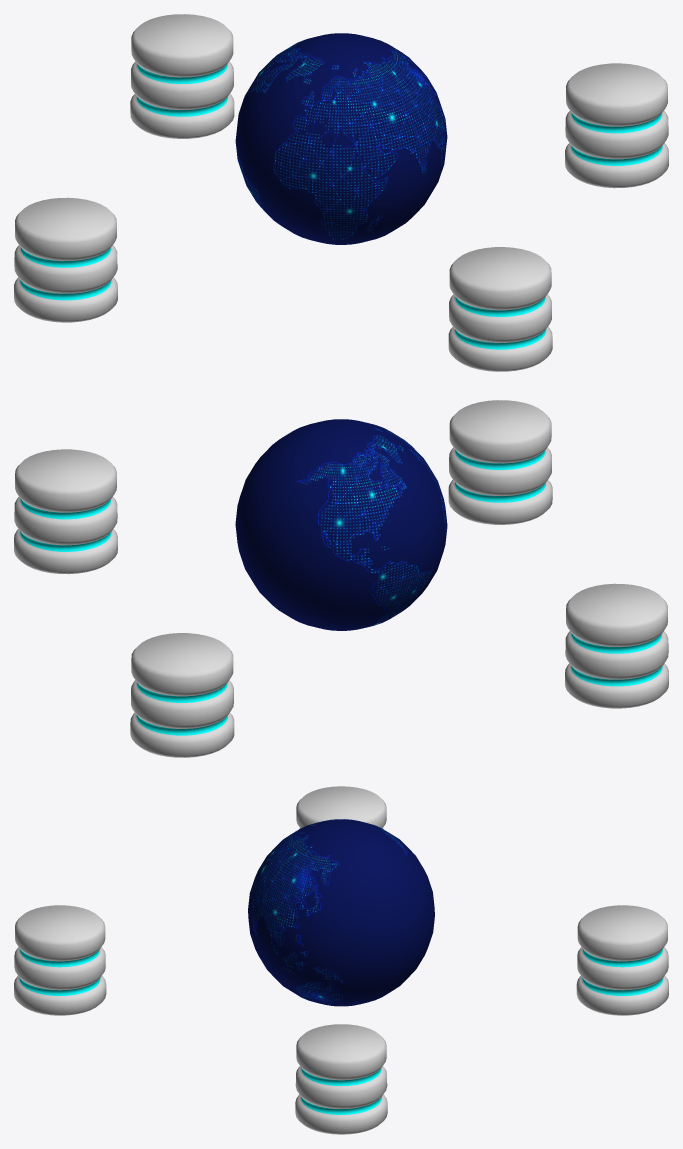
Rendered from escena1.gltf.
3 renders of one model, top to bottom at view 1: azimuth 30°, elevation 25°; view 2: azimuth 150°, elevation 25°; view 3: azimuth 270°, elevation 25°, orthographic. The views are drawn at different scales.
Parts seen in each view (by area): view 1: Sphere, Cylinder.000, Cylinder.002, Cylinder.001, Cylinder.003; view 2: Sphere, Cylinder.002, Cylinder.000, Cylinder.001, Cylinder.003; view 3: Sphere, Cylinder.001, Cylinder.000, Cylinder.002, Cylinder.003.
Boxes of the visible parts, x1,y1,x2,y2 form: Sphere: (235,33,447,244); Cylinder.000: (448,247,552,371); Cylinder.002: (130,14,234,138); Cylinder.001: (565,63,668,188); Cylinder.003: (14,197,117,322); Sphere: (235,419,447,630); Cylinder.002: (130,633,234,757); Cylinder.000: (448,400,552,524); Cylinder.001: (14,449,117,574); Cylinder.003: (565,583,668,708); Sphere: (248,819,434,1006); Cylinder.001: (295,1024,387,1134); Cylinder.000: (14,905,106,1015); Cylinder.002: (576,905,668,1015); Cylinder.003: (296,786,386,829).
Bounding box in the file's own units: 13.97 × 3.98 × 13.97.
2 materials, 2 textured.
